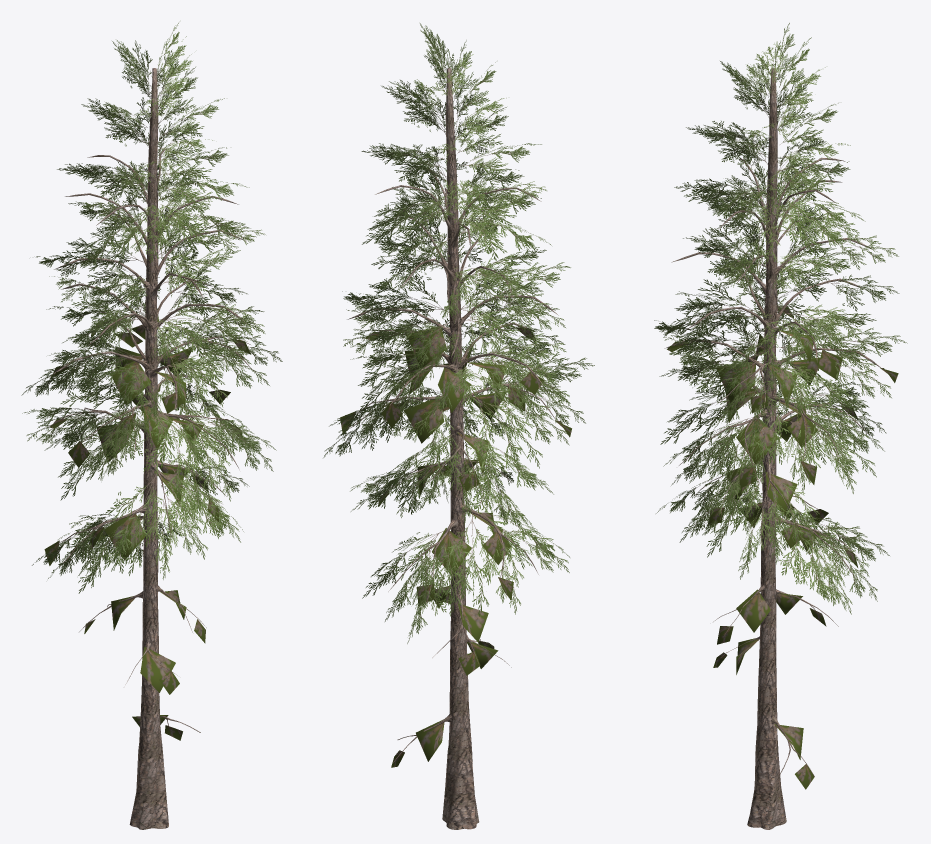
File: spruce.fbx
3 renders of one model, left to right at view 1: azimuth 30°, elevation 25°; view 2: azimuth 150°, elevation 25°; view 3: azimuth 270°, elevation 25°, orthographic.
Visible parts, largest first — view 1: spruce branch_1, bark08_0, branch06_2; view 2: spruce branch_1, bark08_0, branch06_2; view 3: spruce branch_1, bark08_0, branch06_2.
Part boxes in pixels (box(x1,y1,x2,y2)): spruce branch_1: box(21, 23, 282, 593); bark08_0: box(47, 68, 254, 829); branch06_2: box(44, 308, 251, 740); spruce branch_1: box(323, 23, 594, 643); bark08_0: box(347, 68, 558, 829); branch06_2: box(340, 326, 571, 767); spruce branch_1: box(654, 23, 907, 614); bark08_0: box(664, 67, 881, 829); branch06_2: box(667, 308, 898, 789).
Size of the model in its own units: 353 by 1062 by 339.
3 materials, 3 textured.
